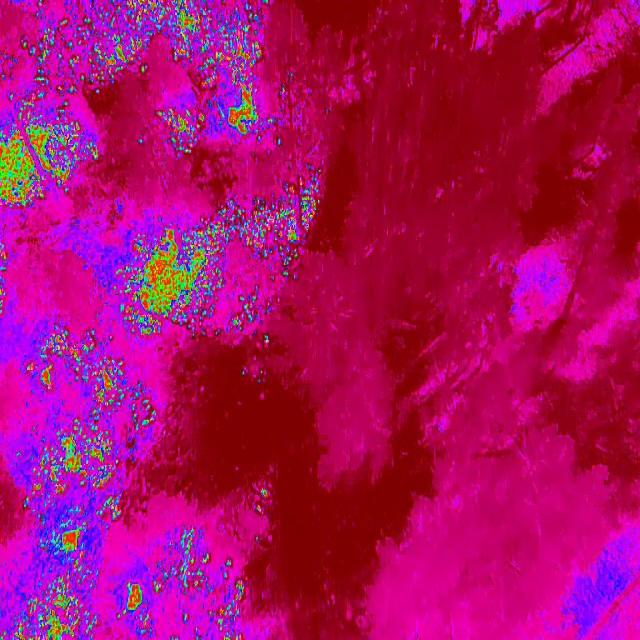fire: (20, 0, 273, 101), (21, 327, 170, 442), (116, 219, 232, 343), (220, 173, 330, 275), (153, 527, 252, 640), (0, 100, 99, 208), (26, 420, 125, 524), (154, 96, 274, 156), (2, 572, 100, 640), (48, 523, 98, 572), (234, 282, 278, 332), (115, 576, 150, 628), (249, 485, 274, 517), (0, 235, 9, 320)
